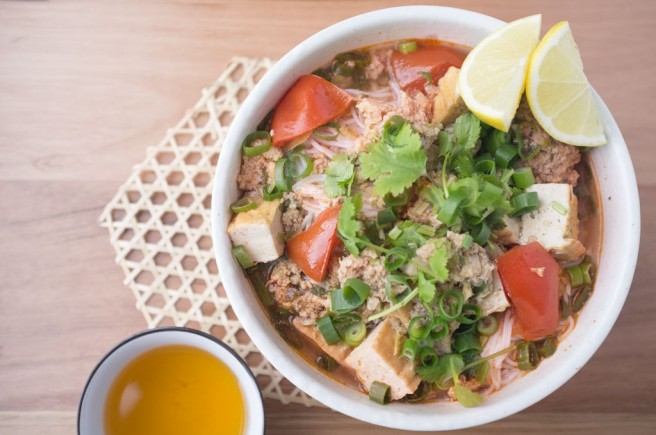onion: (436, 171, 510, 228), (412, 307, 475, 367)
tofu: (346, 319, 425, 401), (511, 187, 581, 251), (230, 194, 284, 264)
tomato: (266, 75, 357, 149), (496, 239, 560, 339)
